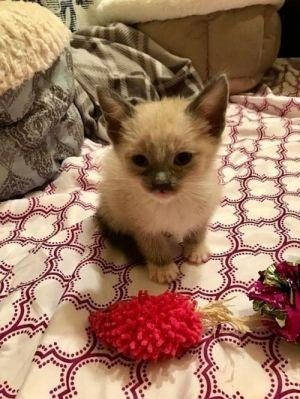siamese: (93, 70, 234, 206)
